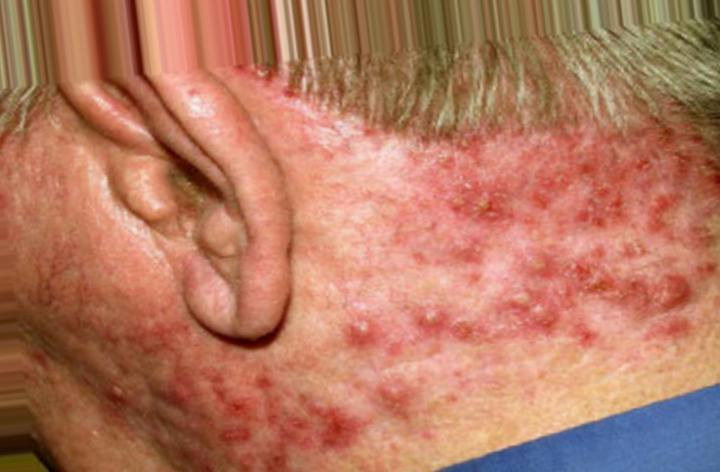Folliculitis: (344, 149, 708, 378), (140, 373, 379, 469), (233, 59, 313, 109), (86, 368, 141, 411)
